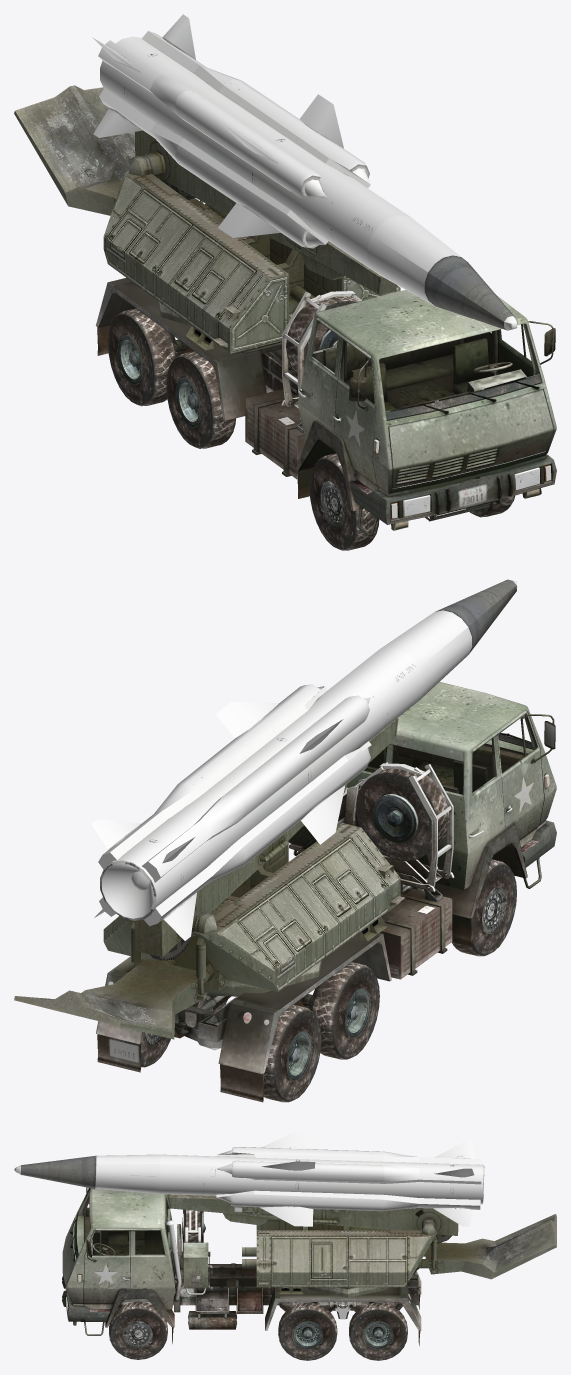
The model's file is missile_vehicle.glb.
3 renders of one model, top to bottom at view 1: azimuth 30°, elevation 25°; view 2: azimuth 150°, elevation 25°; view 3: azimuth 270°, elevation 25°, orthographic. The views are drawn at different scales.
Parts seen in each view (by area): view 1: Object_2, Object_3; view 2: Object_2, Object_3; view 3: Object_2, Object_3.
Part boxes in pixels (x1,y1,x2,y2): Object_2: [14, 14, 517, 353]; Object_3: [96, 277, 556, 550]; Object_2: [14, 579, 516, 1039]; Object_3: [96, 682, 556, 1102]; Object_2: [14, 1131, 556, 1297]; Object_3: [62, 1187, 421, 1360].
Bounding box in the file's own units: 0.265 × 0.3882 × 1.
2 materials, 2 textured.
